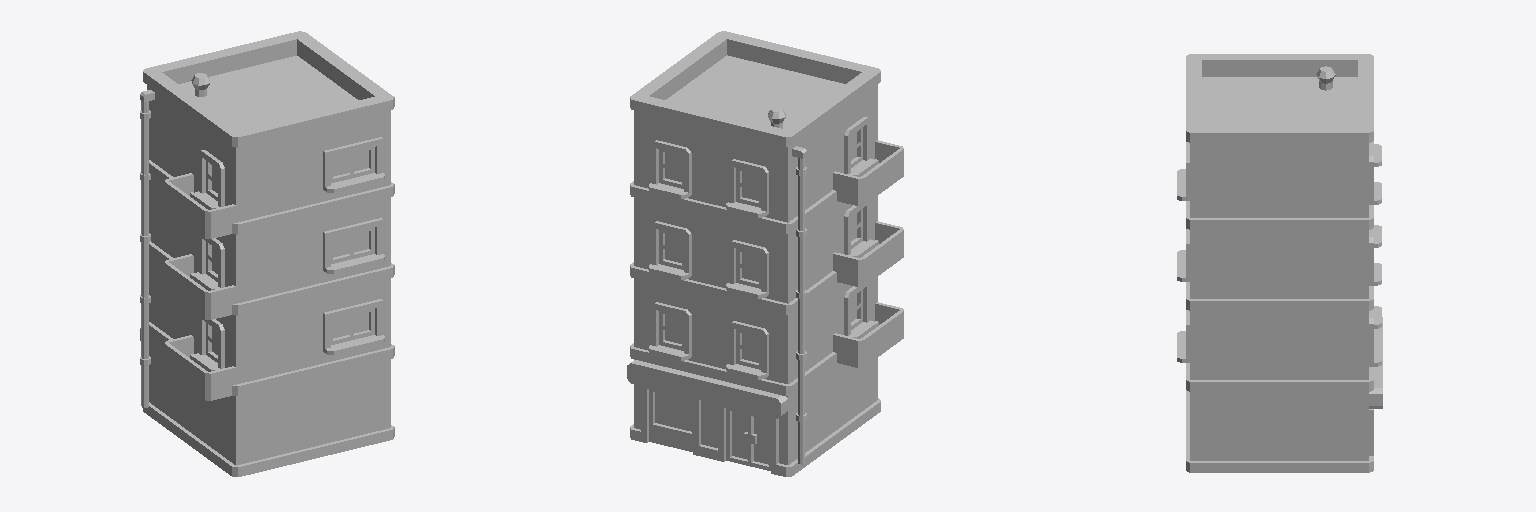
The model's file is commercial_building-g.obj.
3 views of the same model, side by side, from view 1: azimuth 30°, elevation 25°; view 2: azimuth 150°, elevation 25°; view 3: azimuth 270°, elevation 25° (orthographic).
Visible parts, largest first — view 1: building-g; view 2: building-g; view 3: building-g.
Part boxes in pixels (left/top/right/bottom): building-g: left=140, top=31, right=394, bottom=476; building-g: left=627, top=31, right=903, bottom=476; building-g: left=1177, top=54, right=1382, bottom=472.
Size of the model in its own units: 0.97 by 1.69 by 0.922.